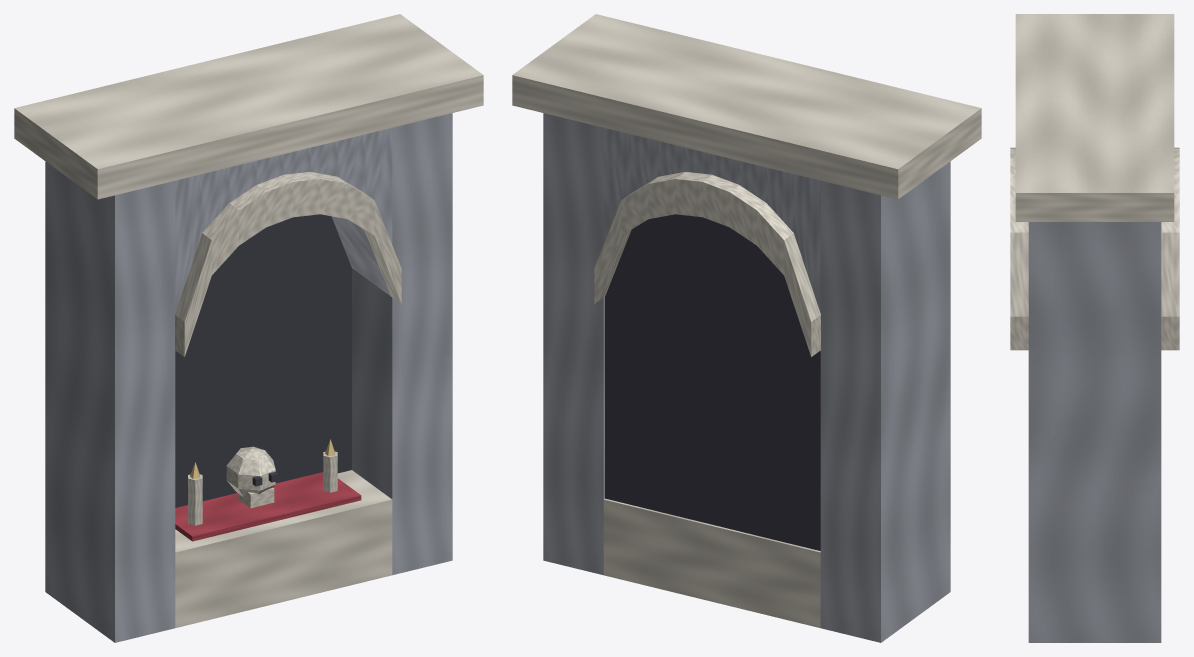
The model's file is vampire-crypt-and-gothic-cathedral-skull-shrine-7eadc469__22997.glb.
3 views of the same model, side by side, from view 1: azimuth 30°, elevation 25°; view 2: azimuth 150°, elevation 25°; view 3: azimuth 270°, elevation 25° (orthographic). The views are drawn at different scales.
Visible parts, largest first — view 1: skull-shrine; view 2: skull-shrine; view 3: skull-shrine.
Part boxes in pixels (left/top/right/bottom): skull-shrine: left=14, top=14, right=483, bottom=642; skull-shrine: left=512, top=14, right=981, bottom=642; skull-shrine: left=1010, top=14, right=1179, bottom=642.
Bounding box in the file's own units: 1.6 × 1.92 × 0.6399.
Materials: 5 (3 with a texture image).
